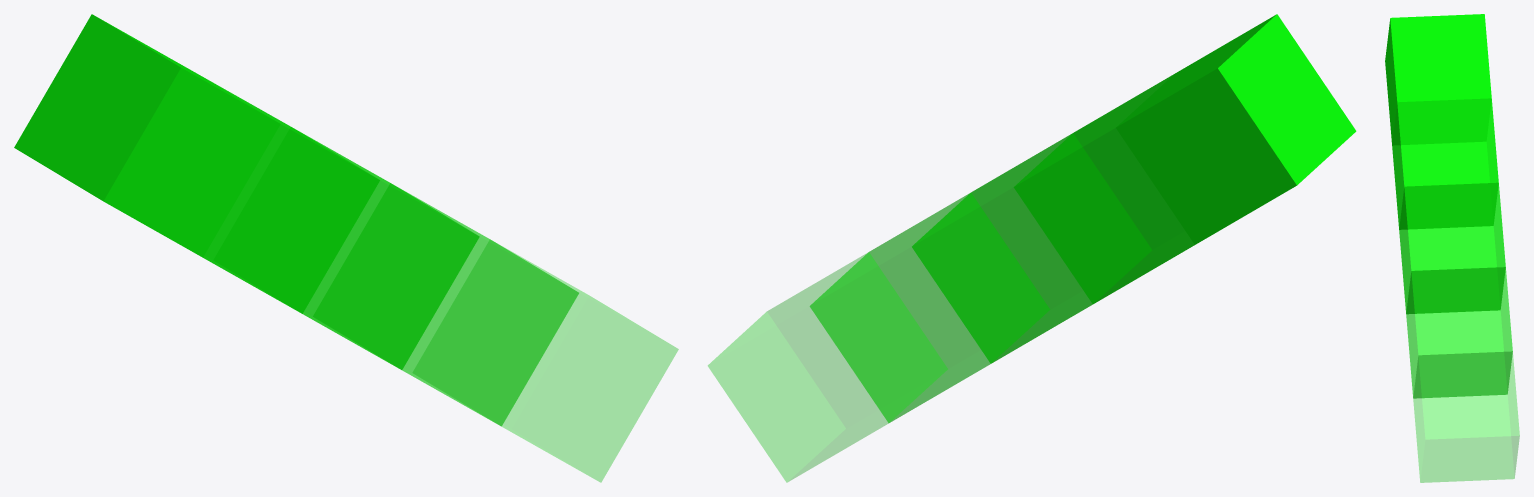
3 renders of one model, left to right at view 1: azimuth 30°, elevation 25°; view 2: azimuth 150°, elevation 25°; view 3: azimuth 270°, elevation 25°, orthographic. The views are drawn at different scales.
Visible parts, largest first — view 1: mesh; view 2: mesh; view 3: mesh.
Boxes of the visible parts, x1,y1,x2,y2 form: mesh: (14, 14, 678, 482); mesh: (708, 14, 1356, 482); mesh: (1385, 14, 1519, 482).
Size of what is drawn, in the model's own units: 463 by 386 by 142.
